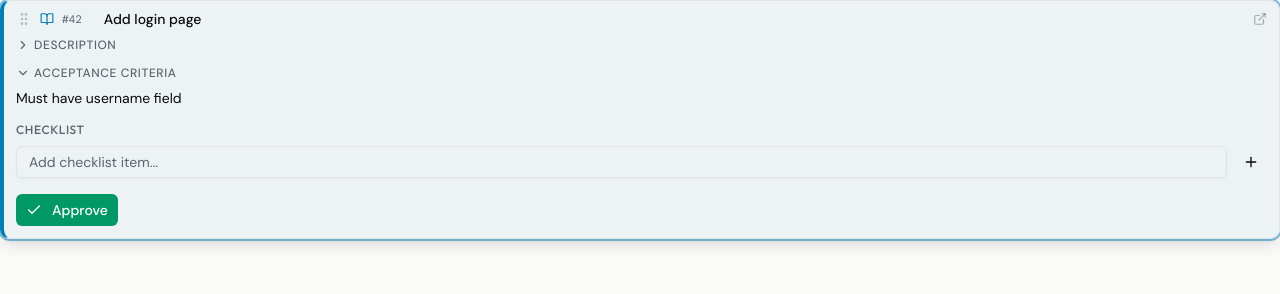
Scenario: DemoItem › renders expanded state with description collapsed and acceptance criteria open
Expected: the text "Must have username field" is shown, [16,89,182,107]
Expected: the button "Approve" is shown, [16,194,118,226]
// Clicking opens description
Click the button "Description" at (66, 45), box [16,37,116,53]
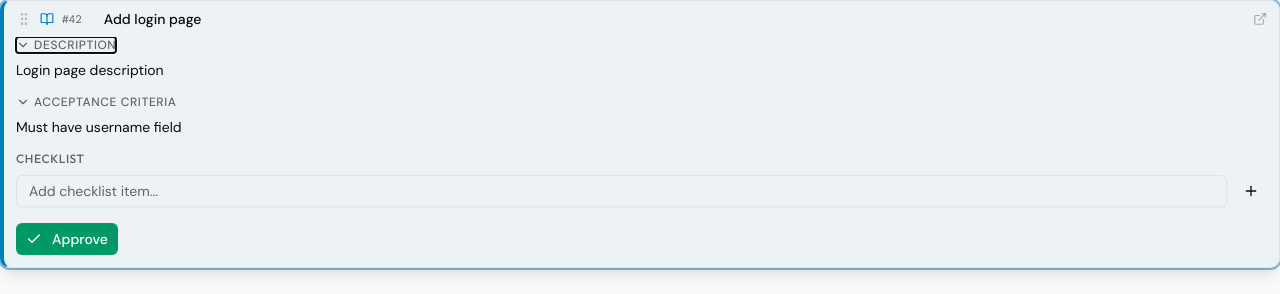
Expected: the text "Login page description" is shown, [16,61,164,79]
Result: the button "Description" is expanded at [16,37,116,53]
